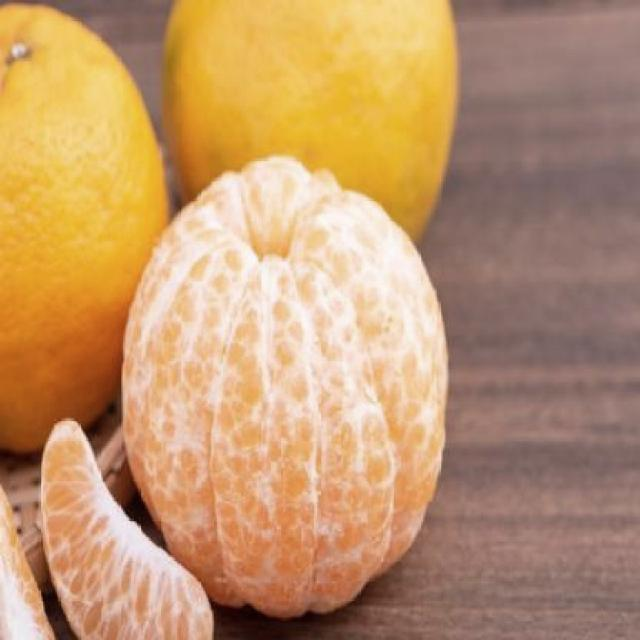Jeruk Sudah Matang: (154, 0, 460, 317), (0, 0, 177, 468)
